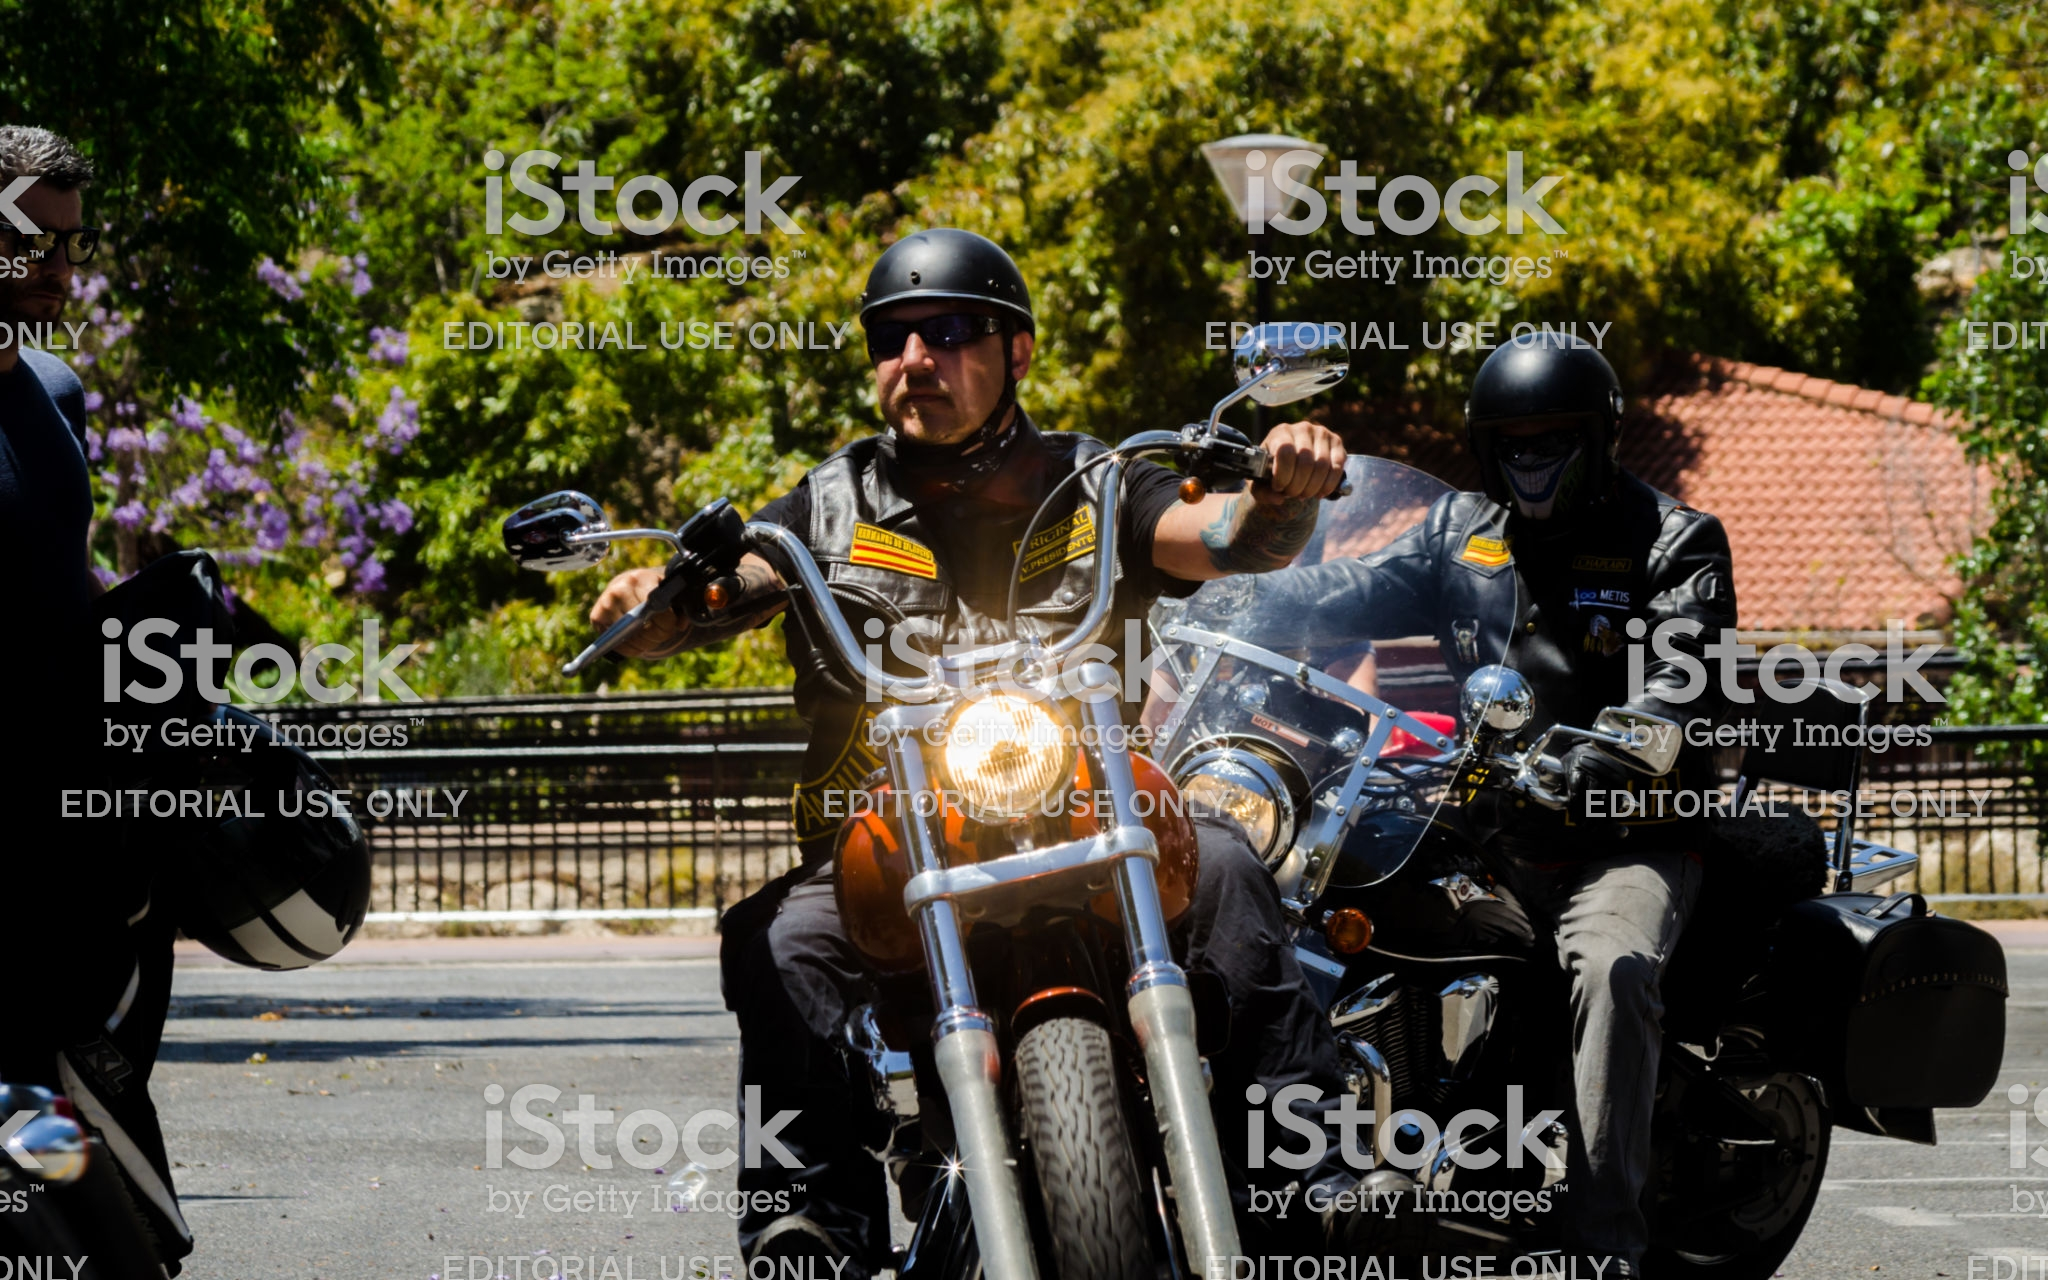helmet: (1464, 333, 1637, 535), (821, 224, 1037, 352)
